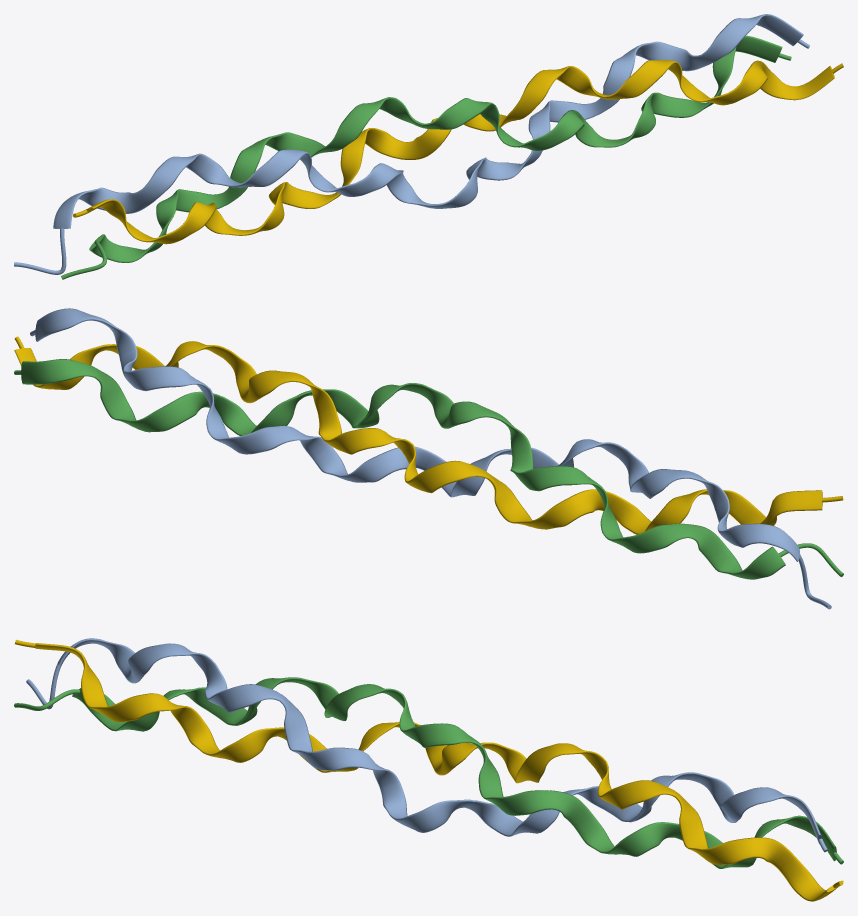
The model's file is 1cag_1.glb.
3 views of the same model, one above another, from view 1: azimuth 30°, elevation 25°; view 2: azimuth 150°, elevation 25°; view 3: azimuth 330°, elevation 25° (orthographic). The views are drawn at different scales.
Visible parts, largest first — view 1: ribbons; view 2: ribbons; view 3: ribbons.
Boxes of the visible parts, bbox=[...] form: ribbons: bbox=[14, 14, 843, 279]; ribbons: bbox=[14, 308, 843, 609]; ribbons: bbox=[14, 638, 843, 901].
Size of what is drawn, in the model's own units: 84.8 by 10.83 by 9.67.
